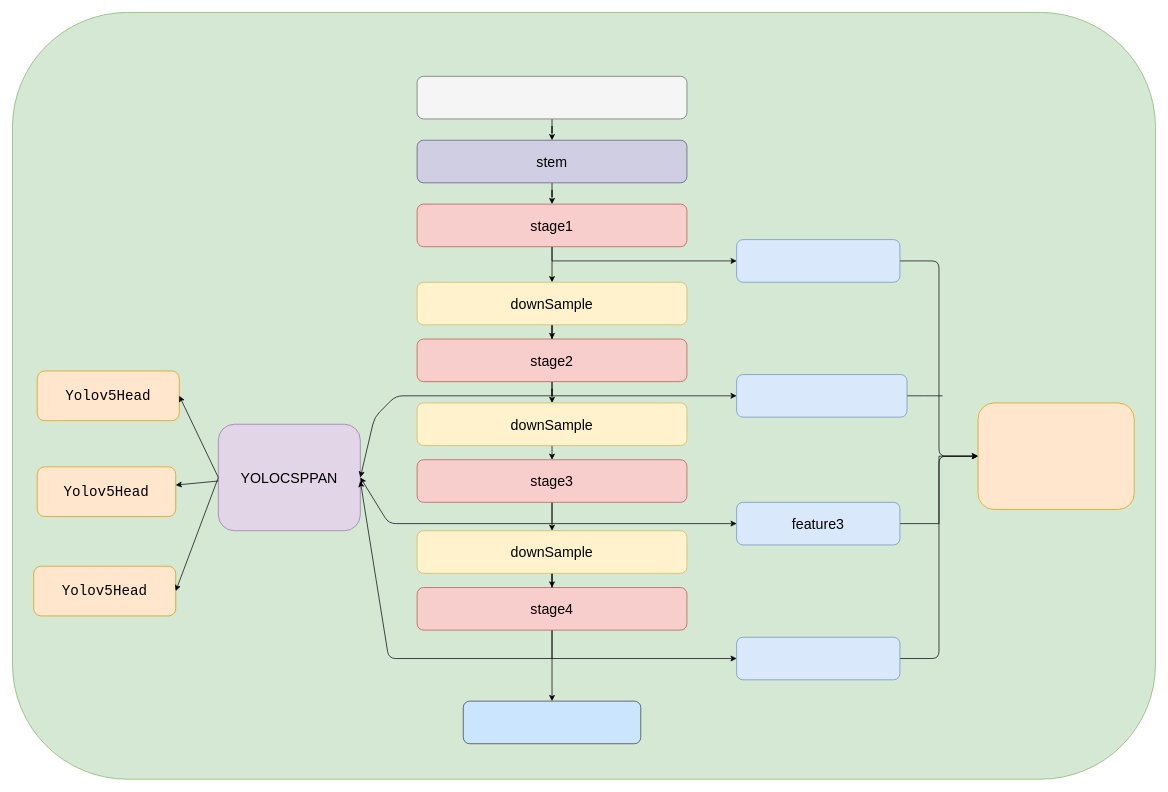
Some shapes in this 1168 by 792 pixel diagram are drawn without their labels. The shapes that lost their labels are listed below. From the top down, each one's box as (x1, y1, x2, y2) in pixels, then its label:
(416, 76, 687, 119): Image
(736, 239, 900, 282): feature1
(736, 374, 907, 417): feature2
(977, 402, 1134, 509): Mask2Former Head
(736, 637, 900, 680): feature4
(463, 700, 641, 744): cls_head
